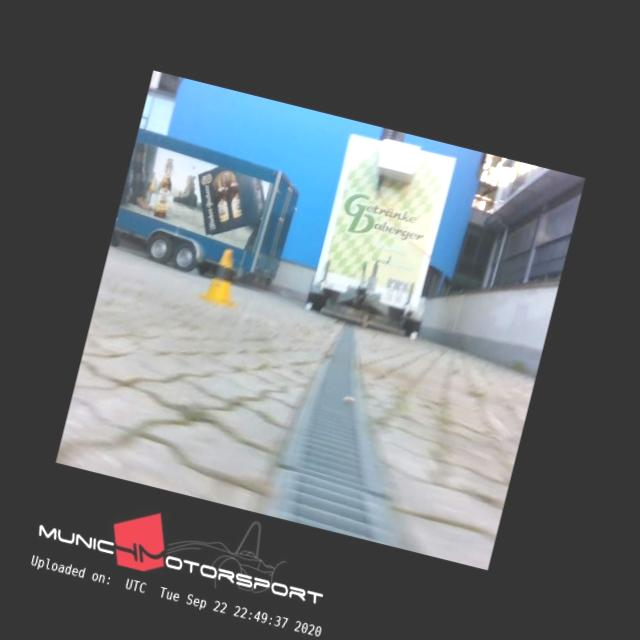yellow_cone: (197, 244, 245, 307)
